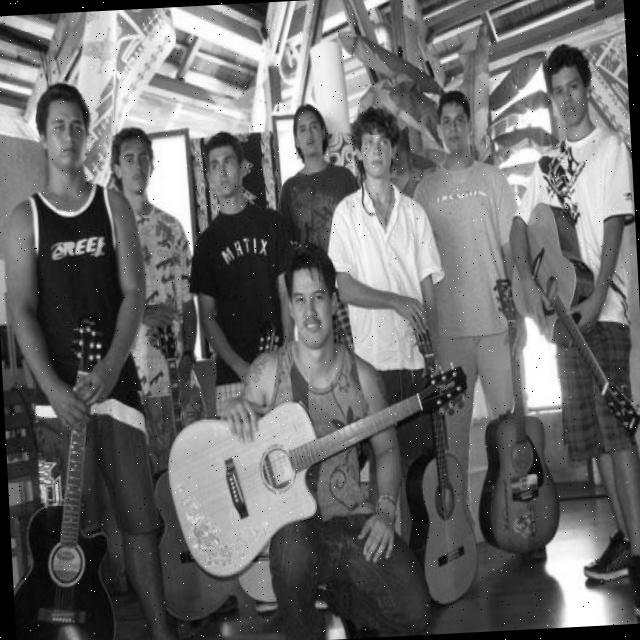guitar: (164, 362, 479, 584), (0, 313, 121, 640), (501, 194, 640, 443), (142, 311, 240, 624), (468, 274, 558, 556), (404, 316, 486, 605), (220, 323, 292, 609)
